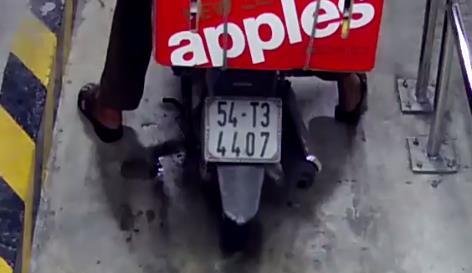lisence: (202, 98, 282, 162)
